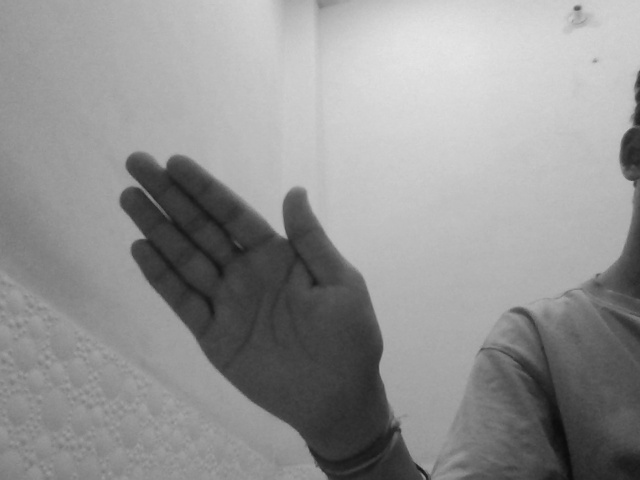Hello: (116, 149, 388, 447)
